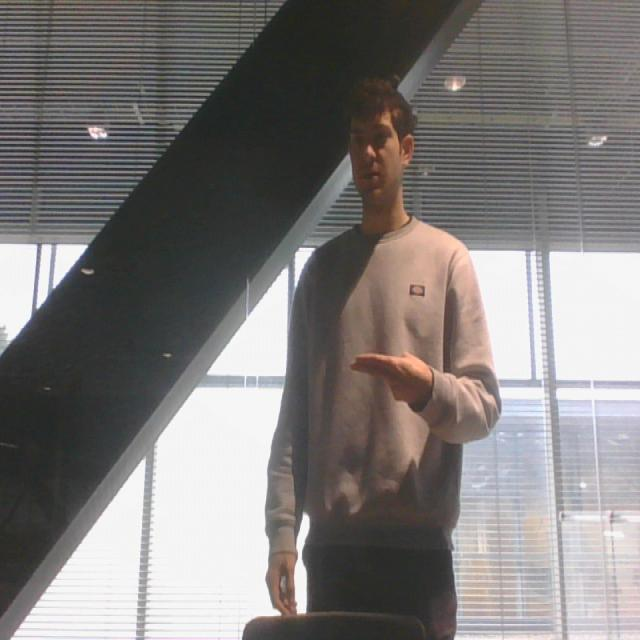left: (348, 335, 436, 412)
